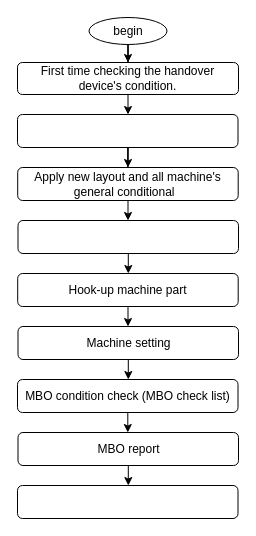
Some shapes in this 256 by 536 pixel diagram are drawn without their labels. The shapes that lost their labels are listed below. From the top down, each one's box as (x1, y1, x2, y2) in pixels, then its label:
(16, 114, 238, 148): Acquiring a machine layout
(17, 220, 238, 254): PC setting
(16, 484, 238, 518): Main run
